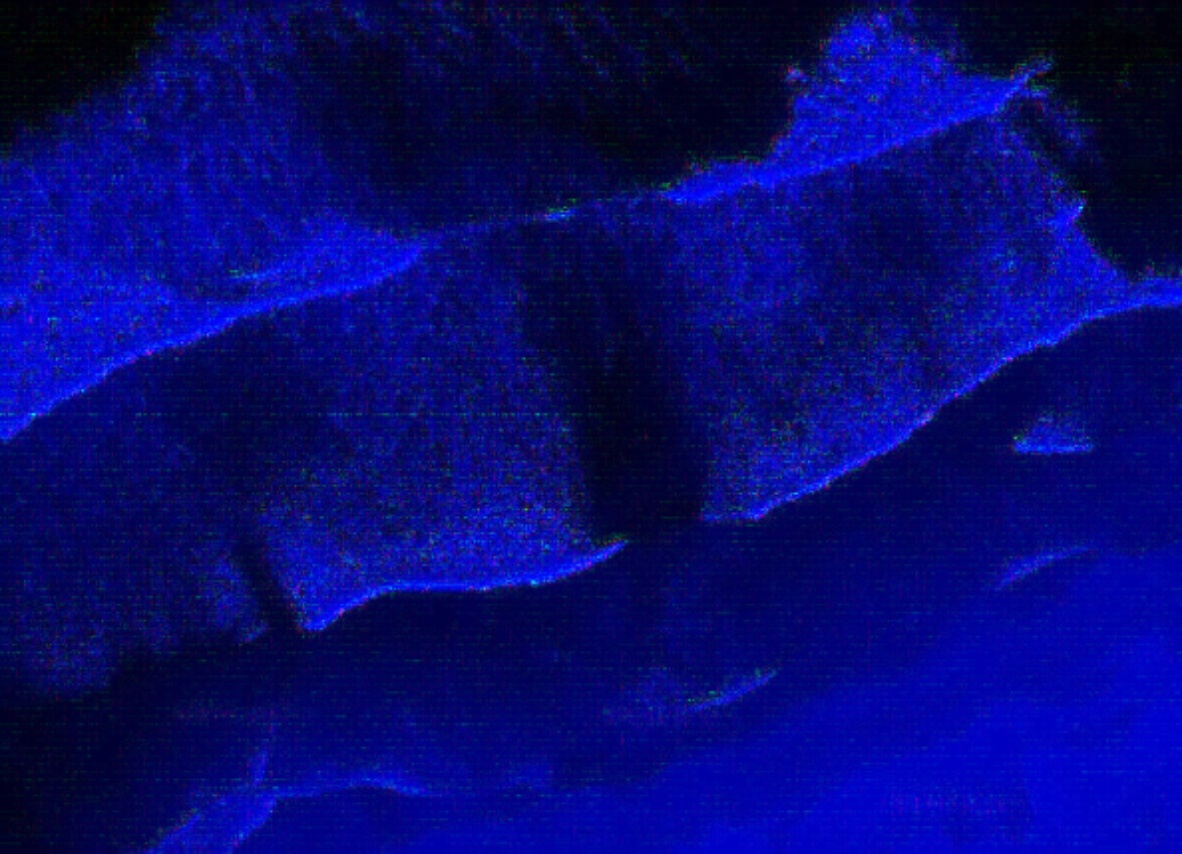rip_current: (436, 109, 761, 583)
